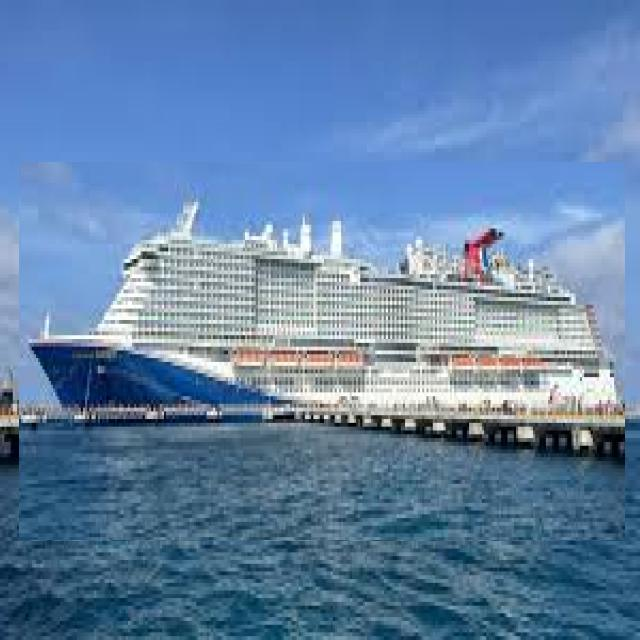PassengerShip: (19, 162, 625, 540)
